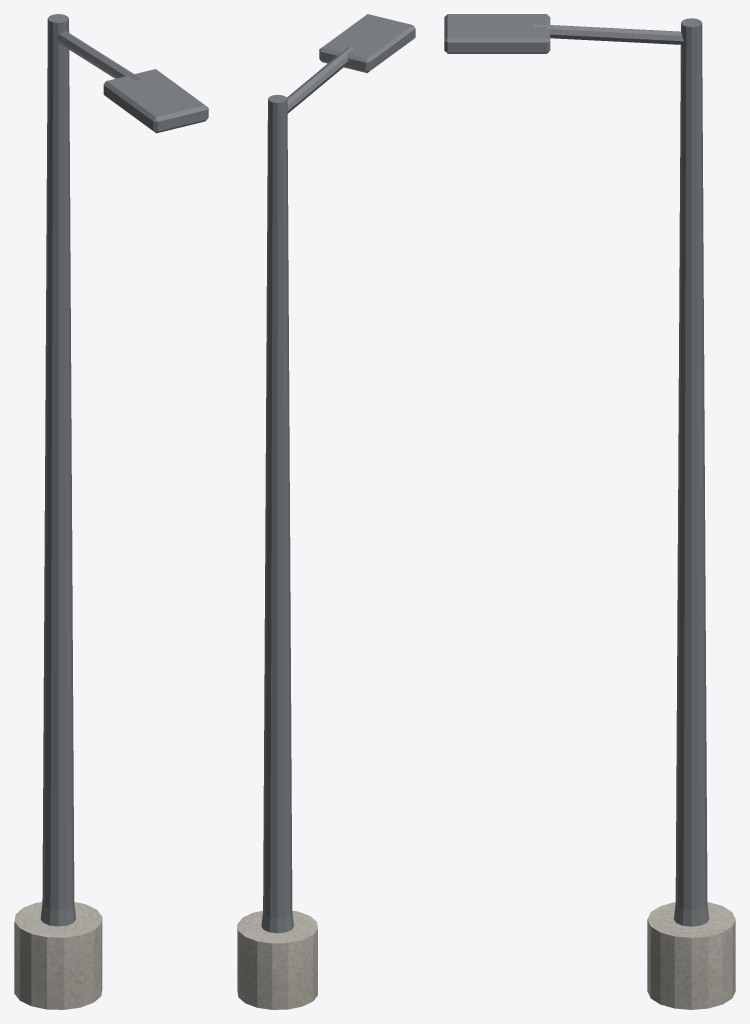
File: lamp_pole.glb
The picture shows the model from 3 angles, left to right: view 1: azimuth 30°, elevation 25°; view 2: azimuth 150°, elevation 25°; view 3: azimuth 270°, elevation 25°; orthographic projection. The views are drawn at different scales.
Visible parts, largest first — view 1: lamp_pole_steel_d, lamp_pole_concrete; view 2: lamp_pole_steel_d, lamp_pole_concrete; view 3: lamp_pole_steel_d, lamp_pole_concrete.
Part boxes in pixels (<box>): lamp_pole_steel_d: <box>40,14,208,926</box>; lamp_pole_concrete: <box>14,902,102,1009</box>; lamp_pole_steel_d: <box>261,14,415,933</box>; lamp_pole_concrete: <box>237,910,317,1009</box>; lamp_pole_steel_d: <box>444,14,708,926</box>; lamp_pole_concrete: <box>647,902,735,1009</box>.
Bounding box in the file's own units: 0.5 × 6.05 × 1.65.
Materials: 3 (1 with a texture image).
